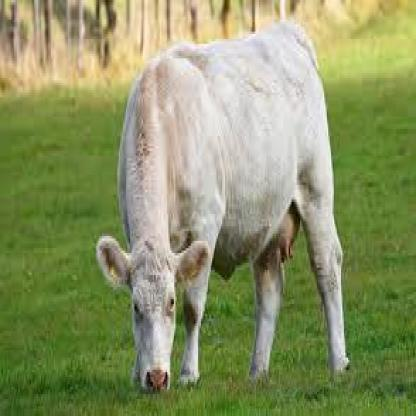cow: (96, 21, 350, 393)
